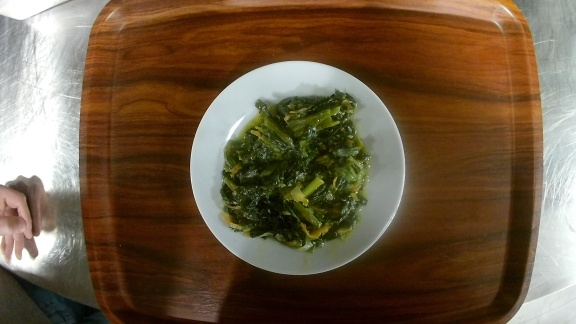ispanak: (186, 59, 413, 278)
